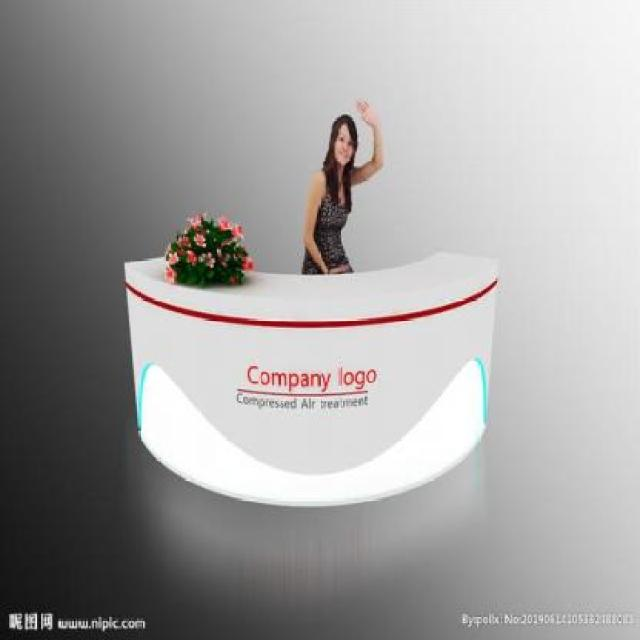frontdesk: (117, 234, 511, 511)
